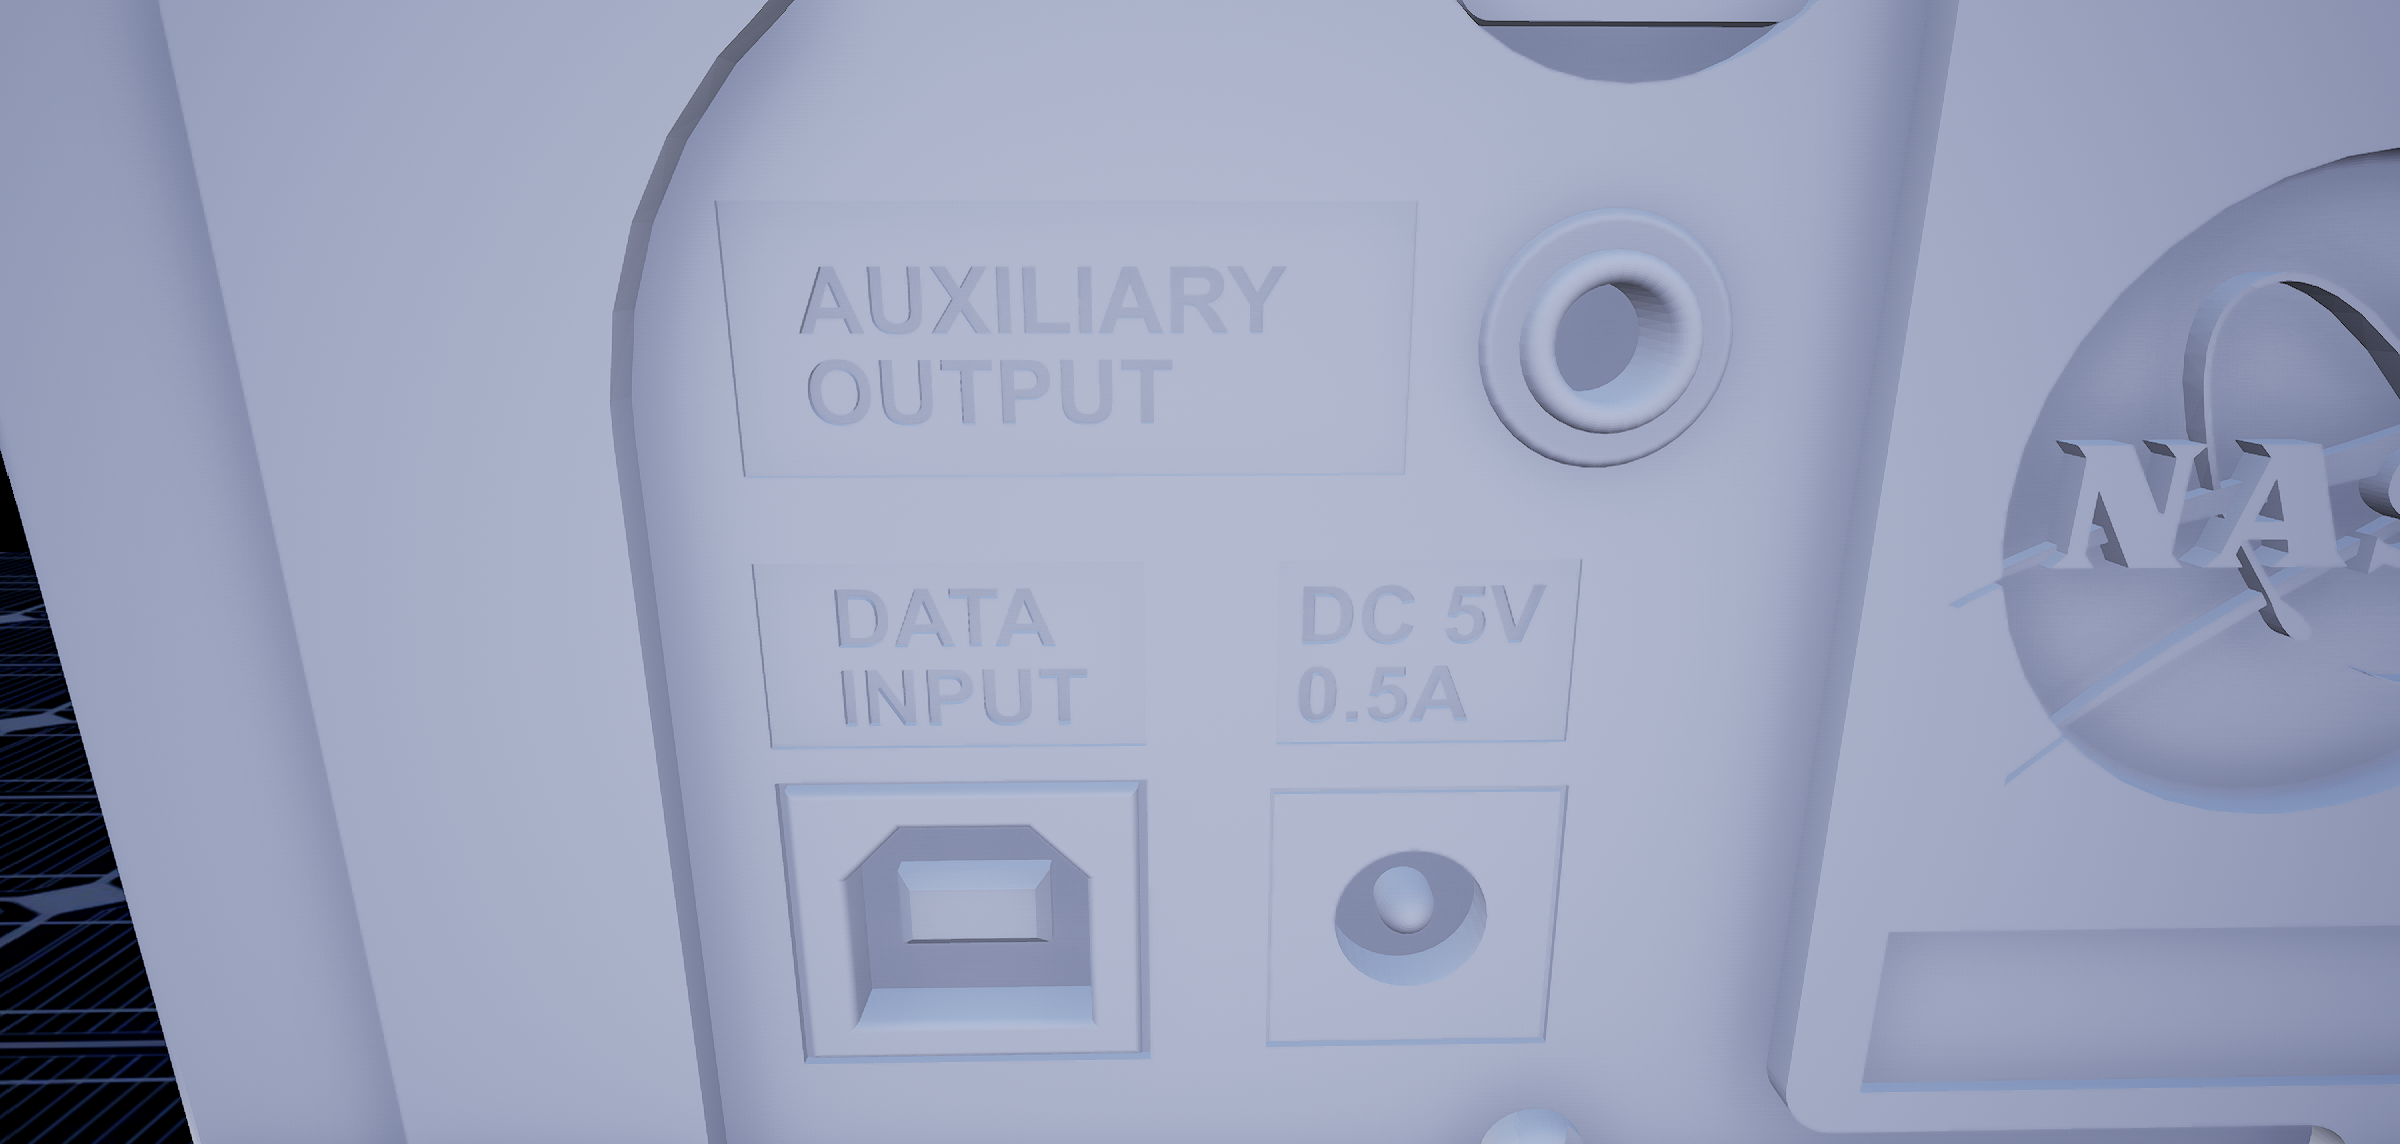aux: (1462, 184, 1745, 496)
dc: (1324, 838, 1492, 994)
usb: (836, 815, 1110, 1035)
